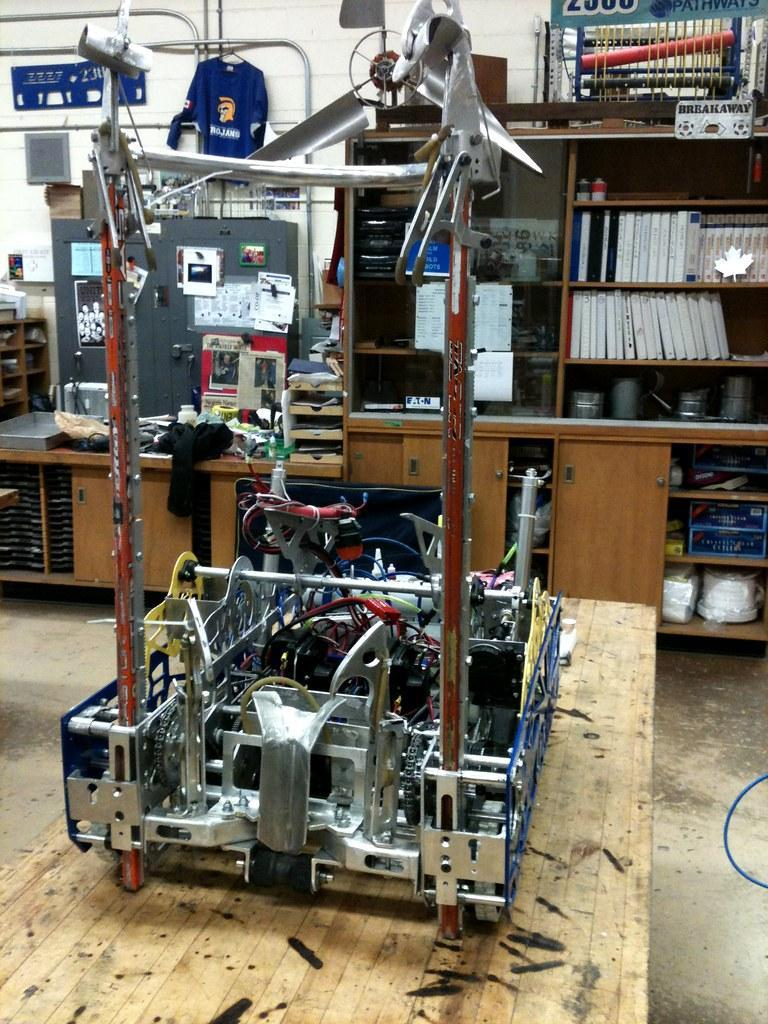robot: (53, 16, 587, 951)
